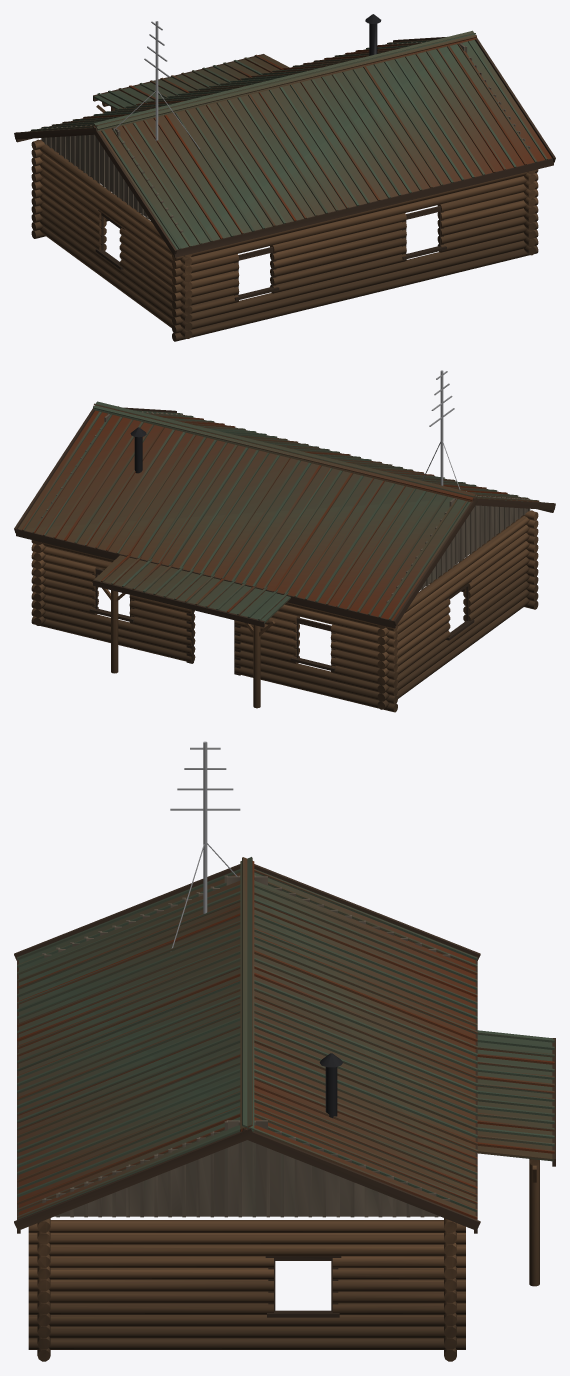
Rendered from RangerStationExterior.glb.
The picture shows the model from 3 angles, top to bottom: view 1: azimuth 30°, elevation 25°; view 2: azimuth 150°, elevation 25°; view 3: azimuth 270°, elevation 25°; orthographic projection. The views are drawn at different scales.
Parts seen in each view (by area): view 1: RangerStationExterior_metal_roof, RangerStationExterior_log, RangerStationExterior_trim, RangerStationExterior_siding, RangerStationExterior_steel; view 2: RangerStationExterior_metal_roof, RangerStationExterior_log, RangerStationExterior_trim, RangerStationExterior_siding, RangerStationExterior_steel, RangerStationExterior_metal_dark; view 3: RangerStationExterior_metal_roof, RangerStationExterior_log, RangerStationExterior_siding, RangerStationExterior_trim, RangerStationExterior_steel, RangerStationExterior_metal_dark.
Part boxes in pixels (x1,y1,x2,y2): RangerStationExterior_metal_roof: (25, 30, 551, 249); RangerStationExterior_log: (31, 102, 538, 341); RangerStationExterior_trim: (14, 35, 555, 300); RangerStationExterior_siding: (41, 41, 530, 232); RangerStationExterior_steel: (113, 21, 199, 148); RangerStationExterior_metal_roof: (18, 401, 544, 623); RangerStationExterior_log: (31, 510, 538, 712); RangerStationExterior_trim: (14, 405, 555, 675); RangerStationExterior_siding: (41, 406, 530, 602); RangerStationExterior_steel: (422, 370, 460, 489); RangerStationExterior_metal_dark: (130, 427, 146, 473); RangerStationExterior_metal_roof: (17, 857, 554, 1219); RangerStationExterior_log: (28, 1159, 539, 1361); RangerStationExterior_siding: (42, 875, 450, 1217); RangerStationExterior_trim: (14, 864, 555, 1317); RangerStationExterior_steel: (170, 741, 240, 948); RangerStationExterior_metal_dark: (319, 1053, 343, 1118).
Bounding box in the file's own units: 45.45 × 30.77 × 38.67.
